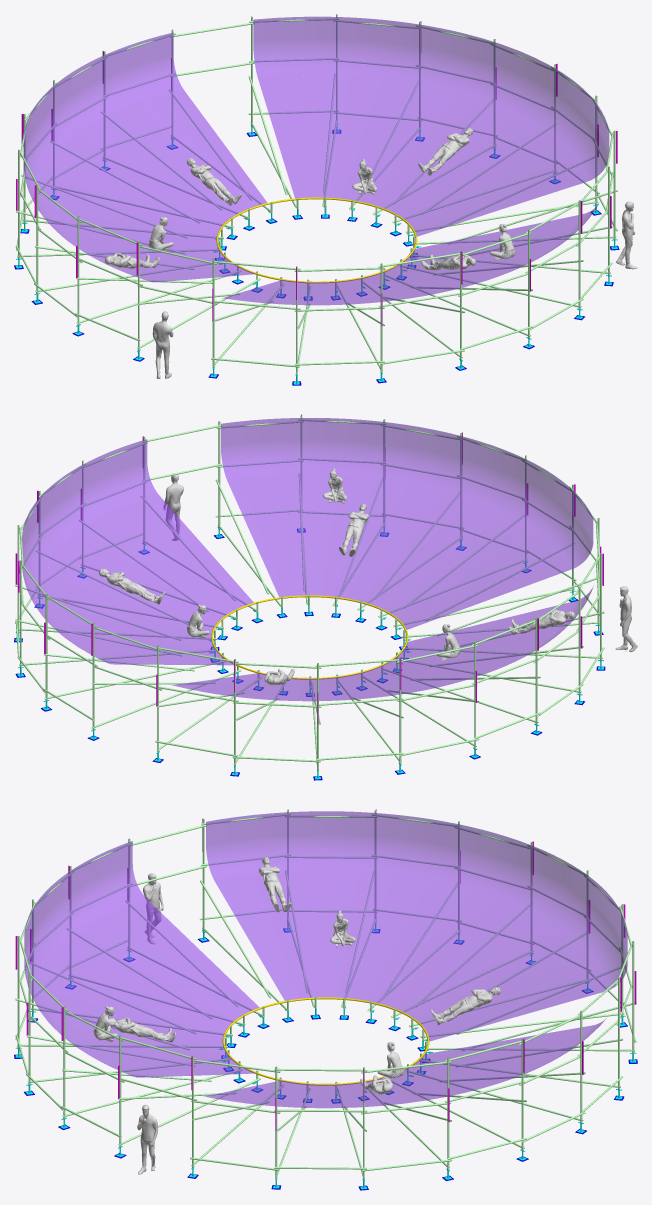
The model's file is 3D_projet.glb.
3 renders of one model, top to bottom at view 1: azimuth 30°, elevation 25°; view 2: azimuth 150°, elevation 25°; view 3: azimuth 270°, elevation 25°, orthographic. The views are drawn at different scales.
Visible parts, largest first — view 1: object 251, object 250, object 253, 1057 Noah 001 Standing (×4), 7 (×2), object 272; view 2: object 253, object 251, object 250, 1057 Noah 001 Standing (×3), 7 (×2), object 272; view 3: object 250, object 253, object 251, 1057 Noah 001 Standing (×3), 7 (×2), object 272.
Part boxes in pixels (left/top/right/bottom): object 251: left=253, top=16, right=609, bottom=236; object 250: left=23, top=32, right=267, bottom=282; object 253: left=222, top=204, right=598, bottom=305; 1057 Noah 001 Standing (×4): left=104, top=128, right=475, bottom=270; 7 (×2): left=152, top=201, right=637, bottom=378; object 272: left=216, top=197, right=417, bottom=282; object 253: left=221, top=418, right=593, bottom=629; object 251: left=21, top=439, right=253, bottom=665; object 250: left=172, top=586, right=593, bottom=701; 1057 Noah 001 Standing (×3): left=99, top=503, right=574, bottom=634; 7 (×2): left=163, top=473, right=637, bottom=651; object 272: left=211, top=595, right=408, bottom=679; object 250: left=206, top=811, right=627, bottom=1041; object 253: left=24, top=841, right=259, bottom=1077; object 251: left=204, top=1019, right=605, bottom=1108; 1057 Noah 001 Standing (×3): left=108, top=857, right=500, bottom=1042; 7 (×2): left=137, top=873, right=163, bottom=1174; object 272: left=222, top=997, right=429, bottom=1085.
Size of the model in its own units: 0.2495 by 0.0541 by 0.2509.
